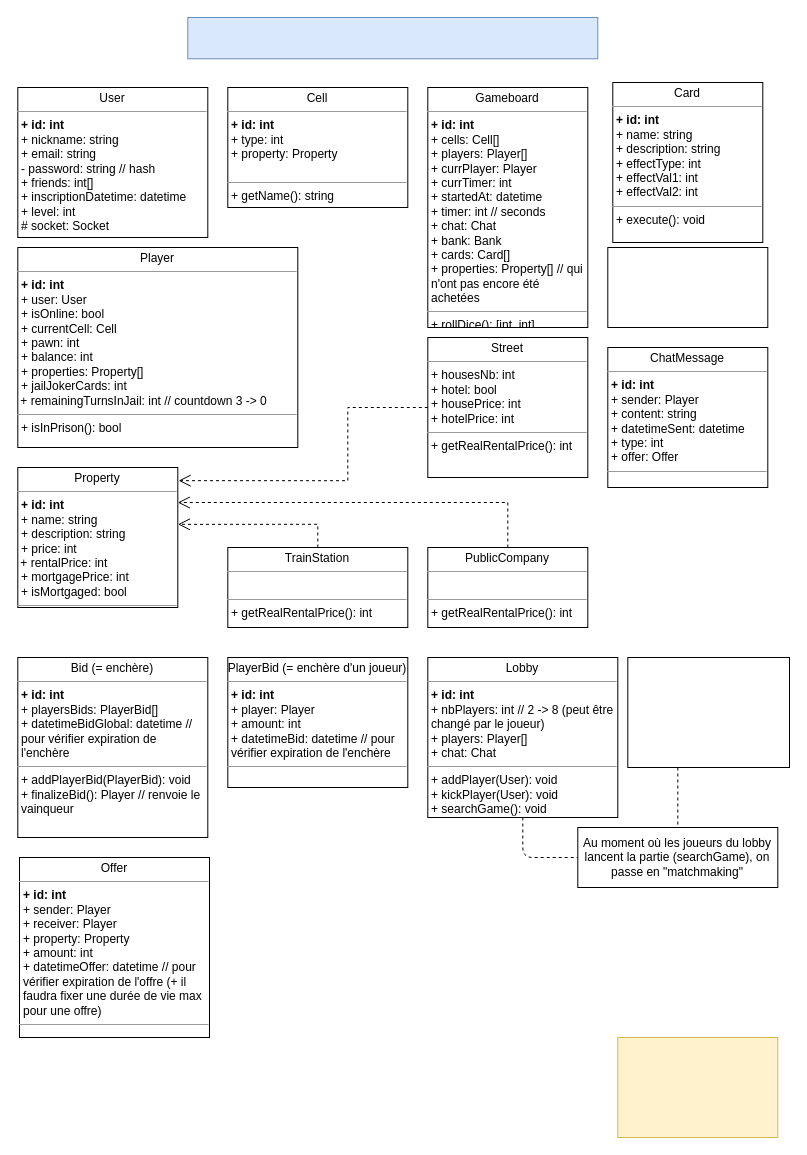
Some shapes in this 807 by 1155 pixel diagram are drawn without their labels. Each missing label, with the box of its shape:
Chat + id: int + messages: ChatMessage[]: (607, 246, 768, 328)
Matchmaking + id: int + nbPlayers: int // 2 -> 8 + playersWaiting: Player[][]: (627, 656, 790, 768)
Monopoly EG - Modélisation UML des classes: (187, 16, 598, 59)
Quest + id: int + description: string + reward: ?: (617, 1036, 778, 1138)
